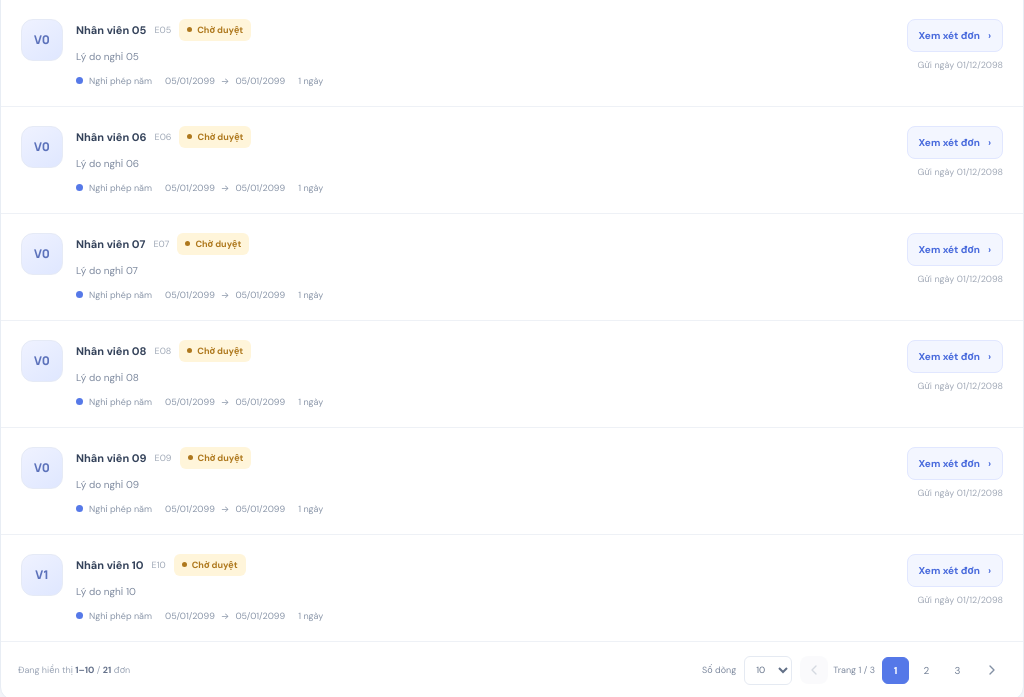
ApprovalsPage › clamps the current page when a decision removes requests from the last page
(page scrolled)
Click the button named "Trang 3" at (958, 670), box [944,656,971,684]
(page scrolled)
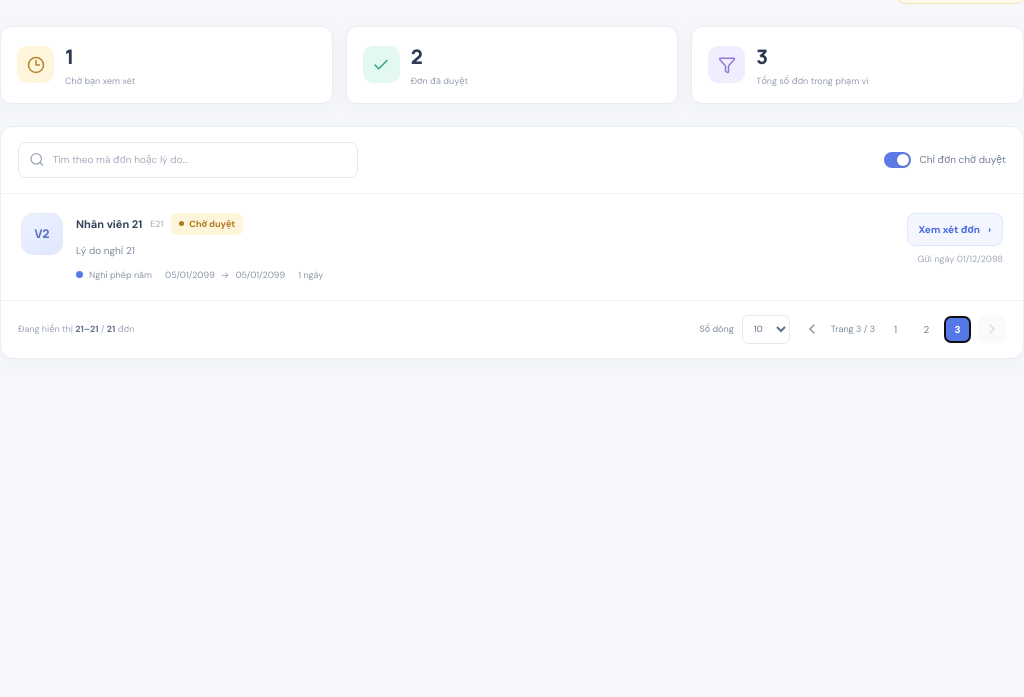
Check: the text "Nhân viên 21" is shown, box [76,216,142,230]
Check: the text "Trang 3 / 3" is shown, box [831,323,875,335]
Click the button "Xem xét đơn ›" at (955, 229), box [906,212,1003,246]
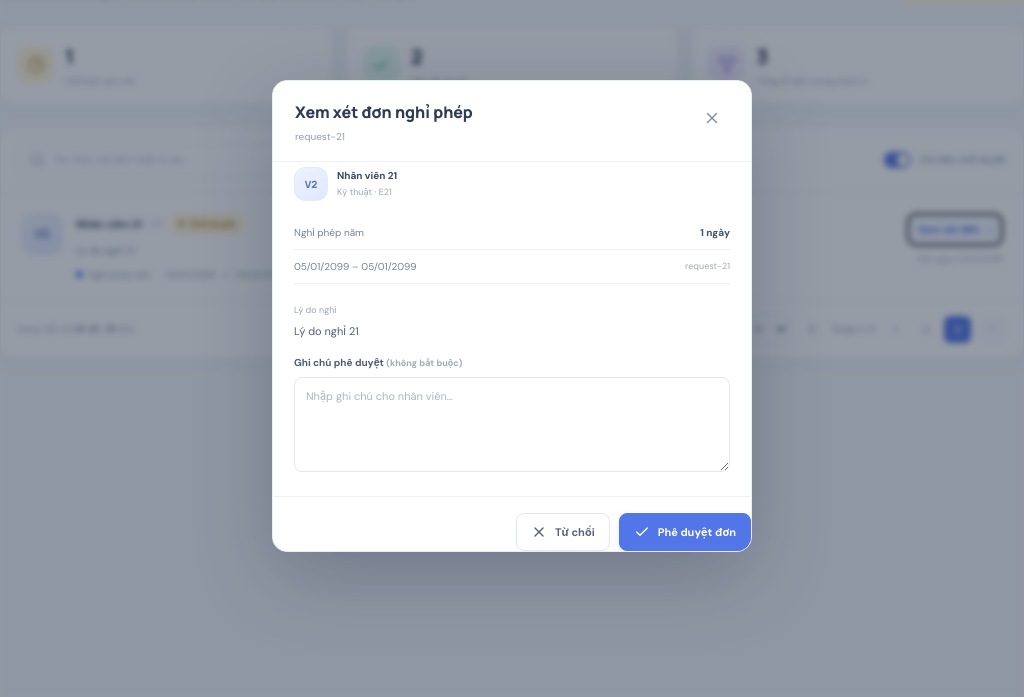
Click the button "Phê duyệt đơn" at (685, 532), box [619,513,751,551]
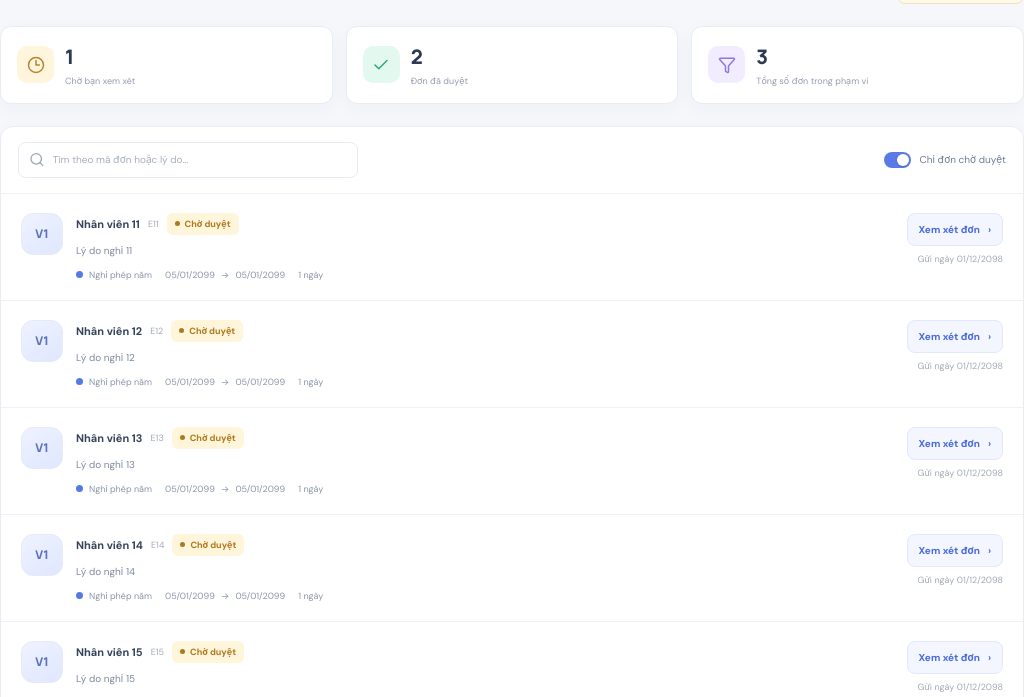
Check: the text "Nhân viên 11" is shown, box [76,216,140,230]
